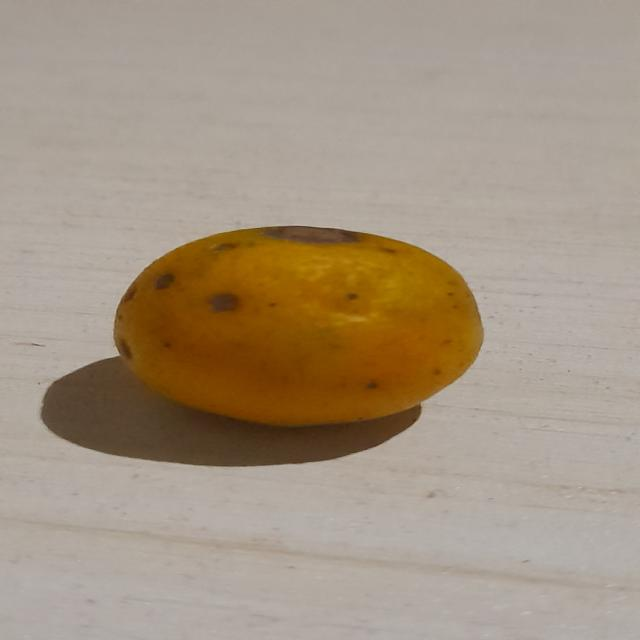black spot: (110, 227, 488, 436)
